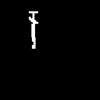double_crochet: (29, 12, 37, 47)
